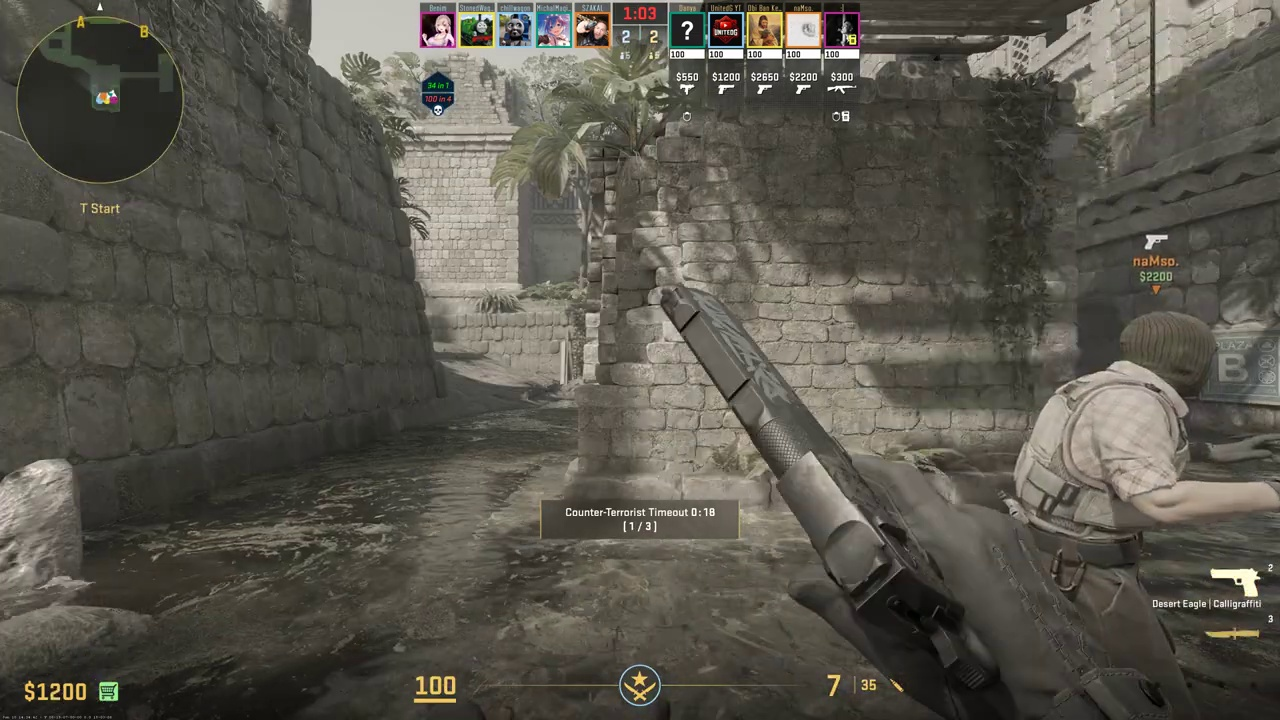Terrorist: (1014, 314, 1263, 720)
